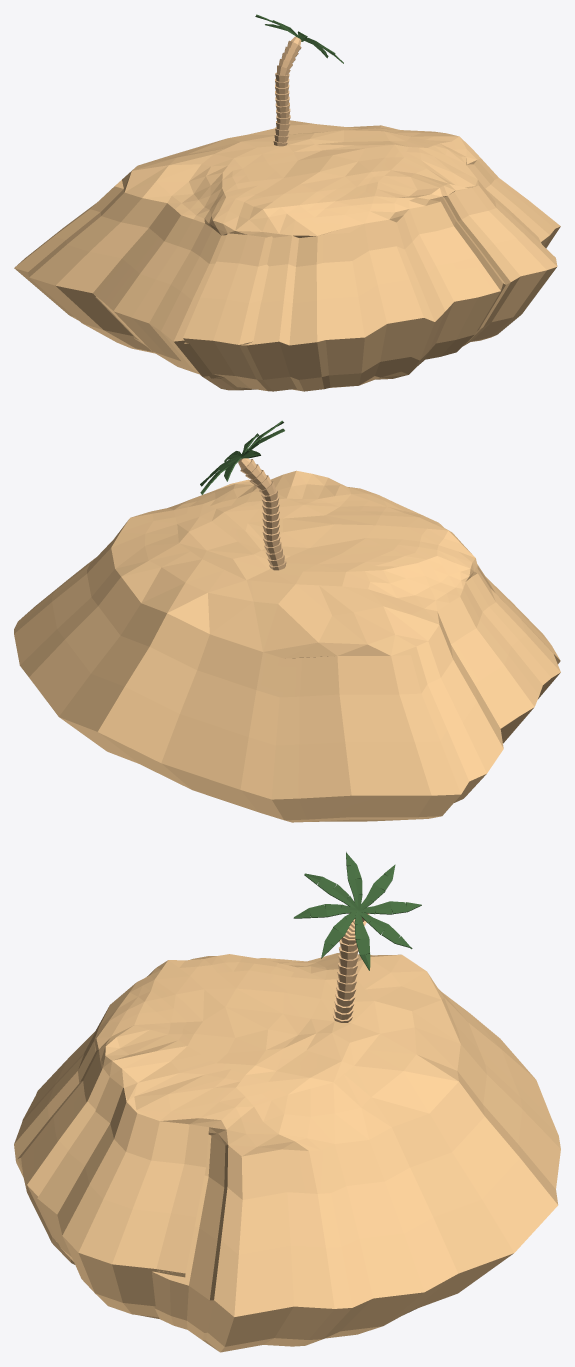
File: Isla3.fbx
3 views of the same model, one above another, from view 1: azimuth 30°, elevation 25°; view 2: azimuth 150°, elevation 25°; view 3: azimuth 270°, elevation 25° (orthographic). The views are drawn at different scales.
Visible parts, largest first — view 1: Tierra.004; view 2: Tierra.004; view 3: Tierra.004.
Boxes of the visible parts, x1=… form: Tierra.004: x1=14, y1=14, x2=560, y2=391; Tierra.004: x1=14, y1=420, x2=560, y2=822; Tierra.004: x1=14, y1=852, x2=560, y2=1352.
Bounding box in the file's own units: 8.23 × 5.26 × 6.49.
